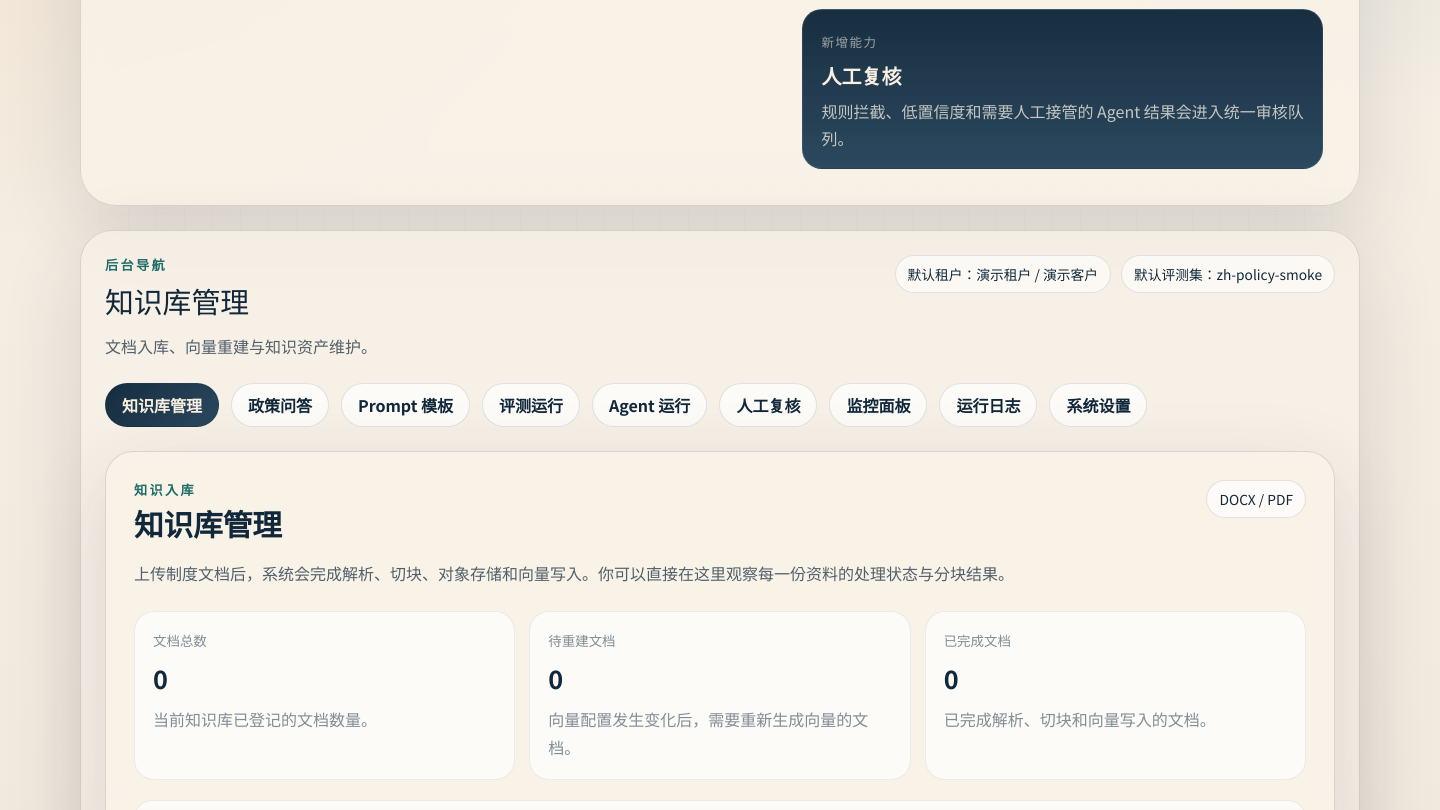
Test: renders mixed-domain eval metrics and quality gate
(page scrolled)
Click the tab "评测运行" at (531, 405), box [482,383,580,427]
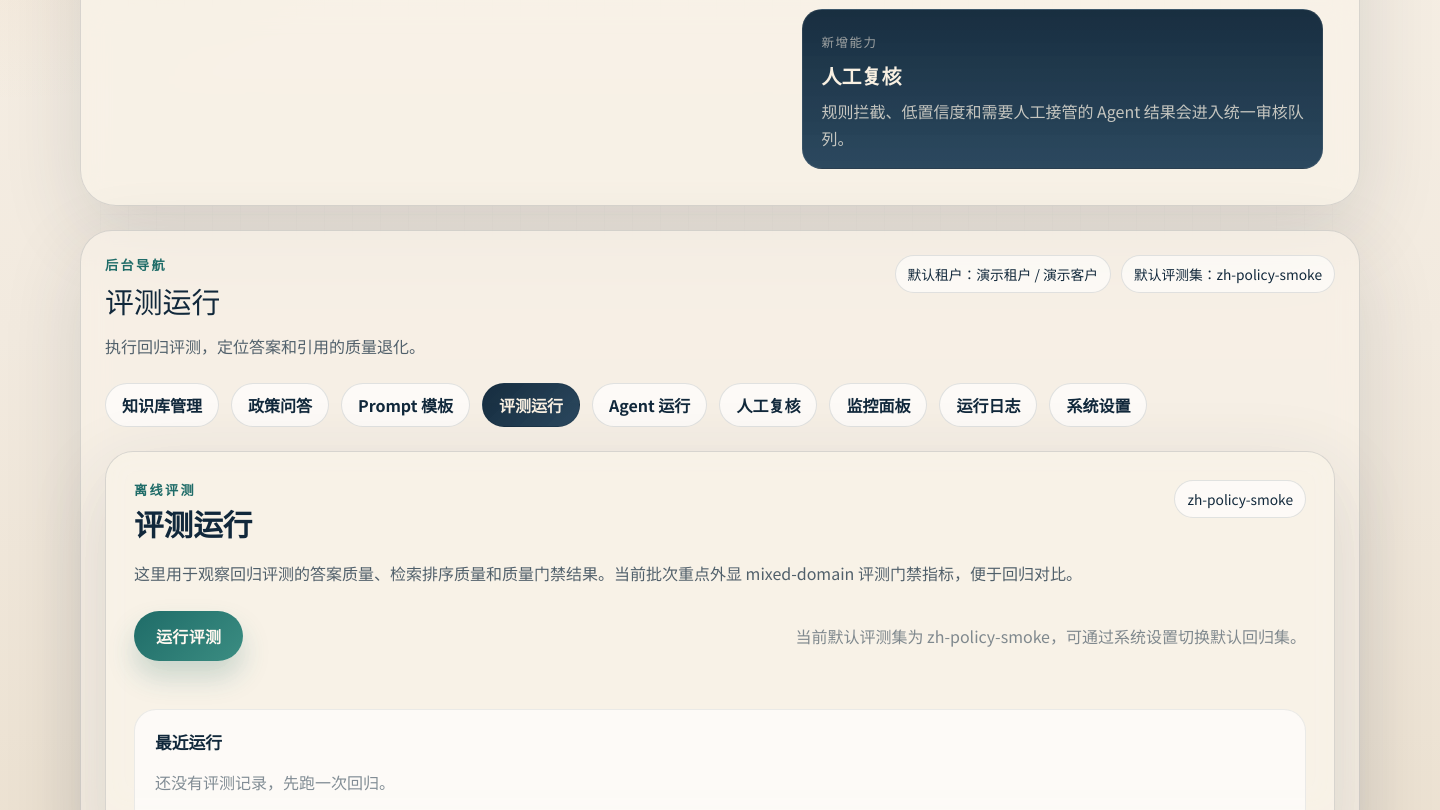
Click the button "运行评测" at (189, 636), box [134,611,243,661]
(page scrolled)
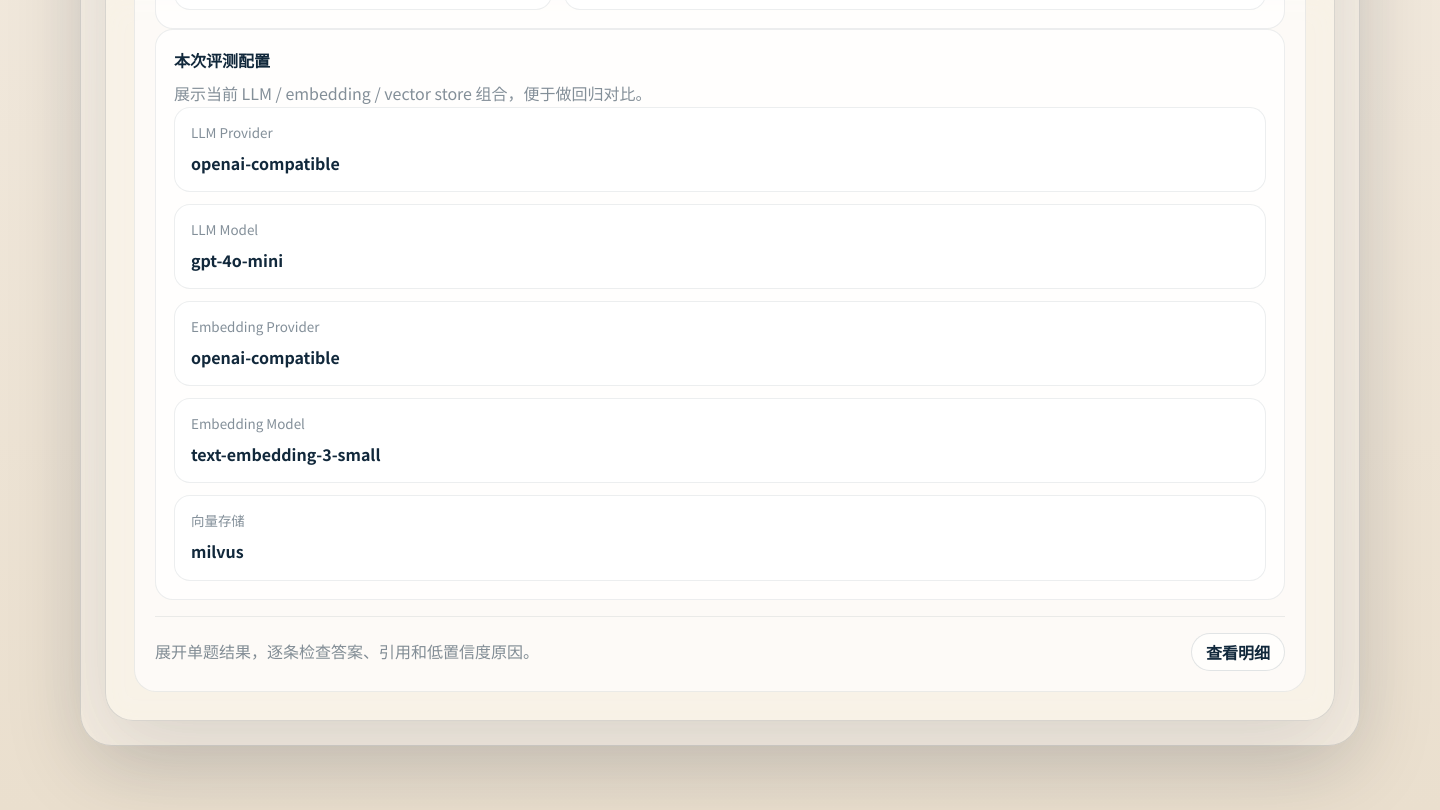
Result: the text "gpt-4o-mini" is shown at [191,248,283,272]
Result: the text "text-embedding-3-small" is shown at [191,442,380,466]
